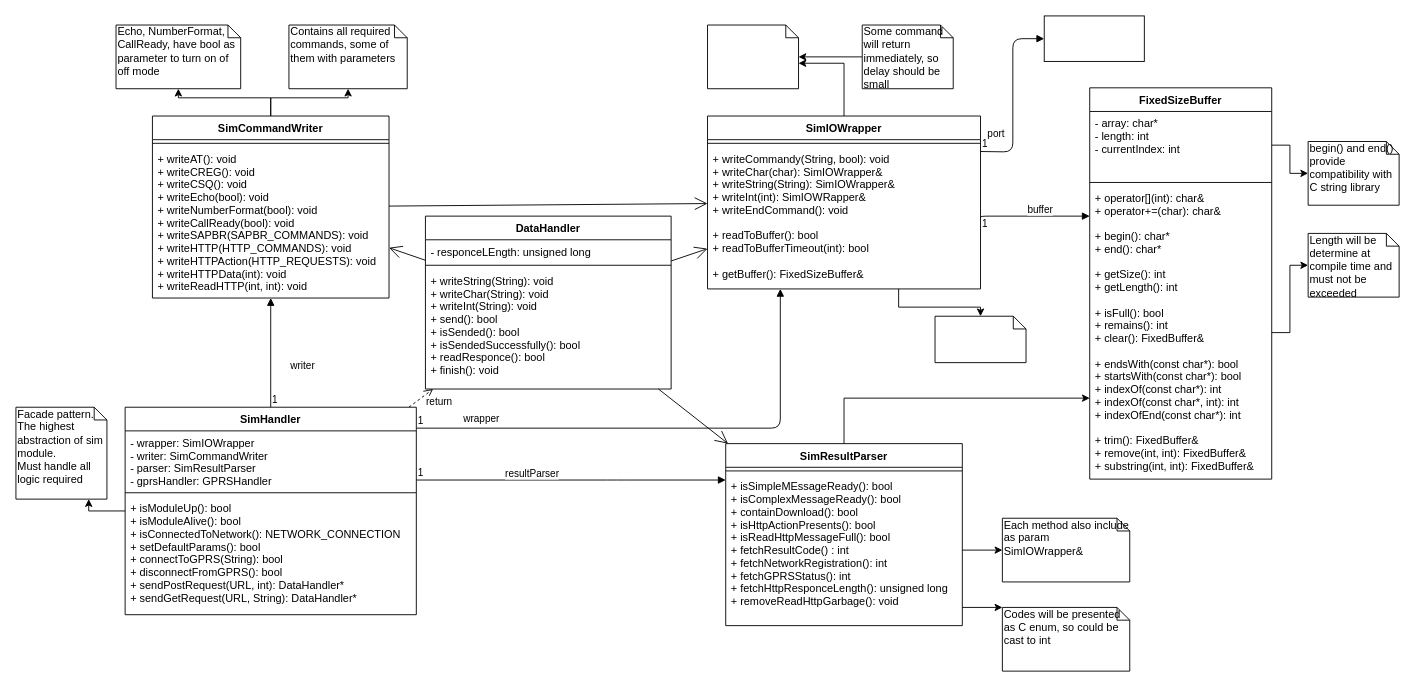
This 1415x687 diagram has some shape labels left out. Each missing label, with the centre of its shape:
"First write command -> delay -> read to buffer -> decide what to do" belongs at (753,56).
"Instead of String as param there const char*" belongs at (980,339).
"«interface» SerialWrite" belongs at (1093,38).
